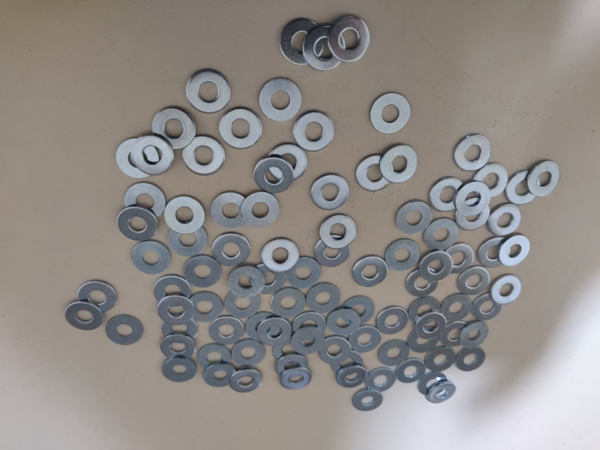circle: (280, 16, 325, 66), (327, 16, 371, 64), (303, 24, 346, 72), (186, 68, 231, 113), (259, 77, 303, 121), (153, 107, 197, 150), (219, 108, 263, 150), (293, 110, 336, 152), (370, 91, 412, 134), (182, 135, 226, 176), (117, 137, 159, 179), (252, 155, 295, 195), (267, 143, 309, 183), (134, 134, 174, 175), (165, 195, 207, 234), (380, 143, 420, 183), (309, 174, 351, 212), (210, 190, 249, 230), (125, 181, 166, 219), (117, 204, 159, 241), (355, 155, 395, 193), (261, 238, 303, 274), (130, 240, 172, 275), (428, 175, 465, 214), (77, 279, 119, 313), (454, 134, 492, 171), (473, 161, 510, 199), (168, 222, 208, 257), (286, 255, 324, 291), (242, 192, 280, 228), (395, 199, 433, 235), (385, 238, 422, 274), (505, 170, 542, 206), (455, 180, 492, 216), (423, 216, 460, 252), (250, 261, 288, 296), (184, 255, 223, 289), (65, 300, 105, 333), (456, 197, 492, 233), (320, 214, 357, 249), (155, 274, 192, 309), (213, 232, 251, 266), (207, 315, 246, 348), (488, 202, 523, 238), (352, 255, 389, 289), (105, 314, 144, 346), (405, 265, 441, 299), (528, 161, 561, 198), (157, 296, 196, 327), (314, 235, 351, 267), (229, 266, 266, 298), (162, 313, 200, 344), (224, 287, 262, 318), (420, 249, 454, 282), (189, 291, 223, 324), (457, 267, 492, 299), (307, 283, 343, 314), (161, 356, 199, 385), (259, 315, 292, 348), (243, 311, 277, 343), (408, 296, 443, 327), (424, 343, 459, 374), (160, 332, 197, 361), (491, 274, 524, 306), (438, 320, 471, 352), (441, 293, 474, 325), (499, 234, 531, 267), (272, 334, 305, 366), (471, 292, 505, 323), (272, 288, 306, 319), (443, 243, 476, 274), (478, 237, 511, 268), (327, 307, 362, 336), (292, 312, 327, 341), (377, 339, 411, 368), (292, 327, 326, 356), (198, 343, 232, 372), (232, 339, 267, 367), (349, 325, 382, 354), (342, 296, 375, 325), (375, 307, 409, 335), (230, 367, 264, 395), (203, 361, 238, 388), (319, 336, 352, 364), (331, 349, 364, 377), (408, 326, 439, 355), (395, 359, 429, 385), (275, 353, 309, 379), (416, 312, 447, 340), (456, 346, 487, 373), (417, 372, 449, 398), (280, 367, 314, 391), (365, 367, 396, 393), (336, 364, 368, 389), (425, 381, 458, 405), (351, 389, 384, 413)
